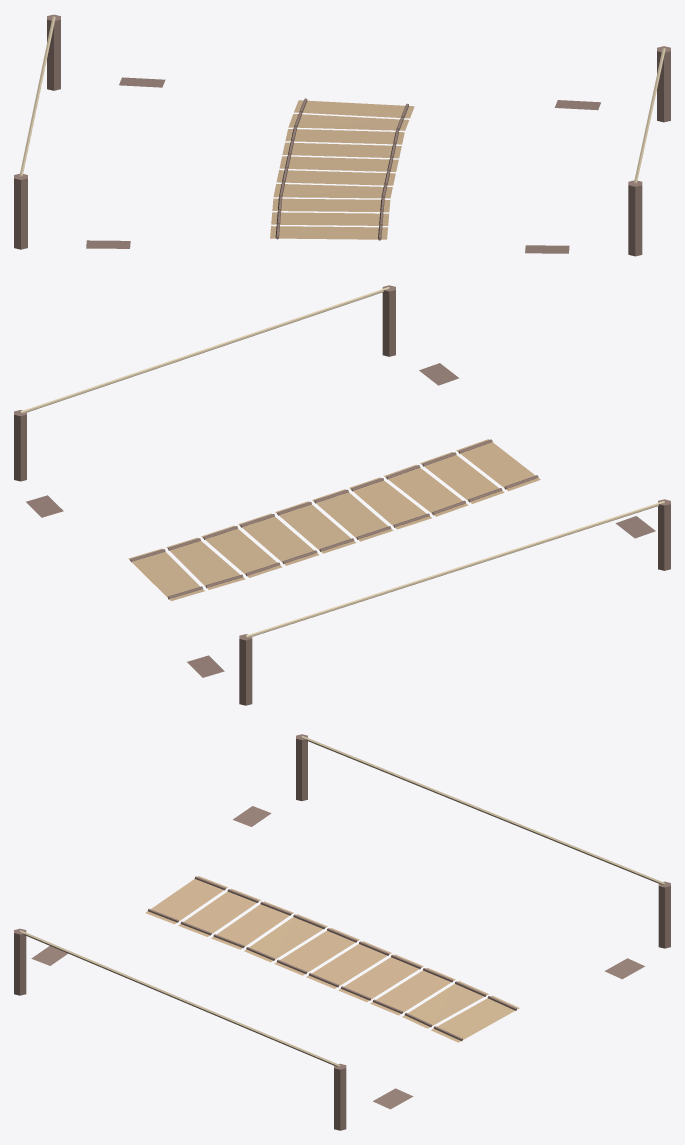
File: puente_roto_3.glb
3 views of the same model, one above another, from view 1: azimuth 30°, elevation 25°; view 2: azimuth 150°, elevation 25°; view 3: azimuth 270°, elevation 25° (orthographic). The views are drawn at different scales.
Visible parts, largest first — view 1: puente_roto_3; view 2: puente_roto_3; view 3: puente_roto_3.
Boxes of the visible parts, left/top/right/bottom form: puente_roto_3: left=14, top=14, right=670, bottom=256; puente_roto_3: left=14, top=285, right=670, bottom=705; puente_roto_3: left=14, top=734, right=670, bottom=1130.
Size of the model in its own units: 10.71 by 1.84 by 10.23.
